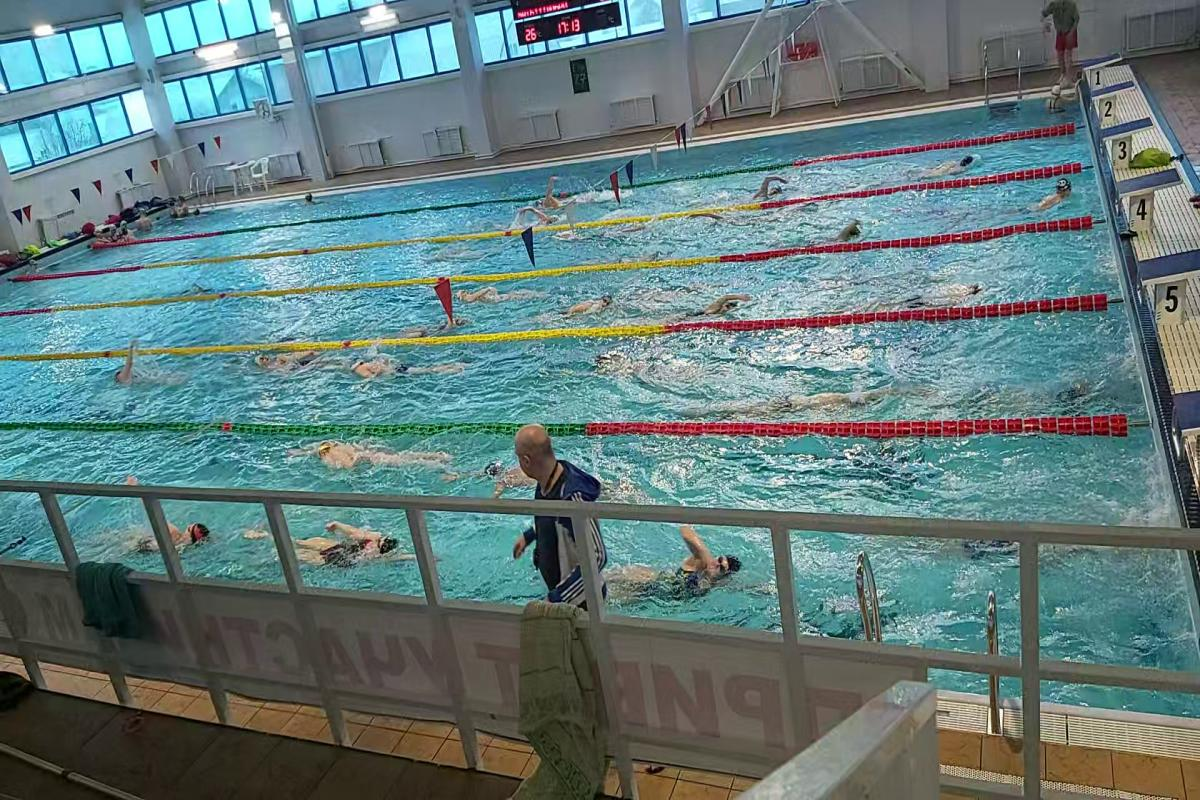swimmer: (288, 428, 473, 478), (263, 511, 401, 571), (92, 522, 244, 563), (699, 381, 877, 415), (630, 547, 754, 594), (597, 346, 704, 379), (357, 361, 474, 389), (242, 346, 338, 373), (1022, 175, 1092, 208), (678, 300, 752, 321), (886, 282, 941, 310), (915, 160, 979, 184), (745, 176, 796, 196), (95, 364, 141, 386), (822, 216, 870, 237), (521, 193, 573, 205)
